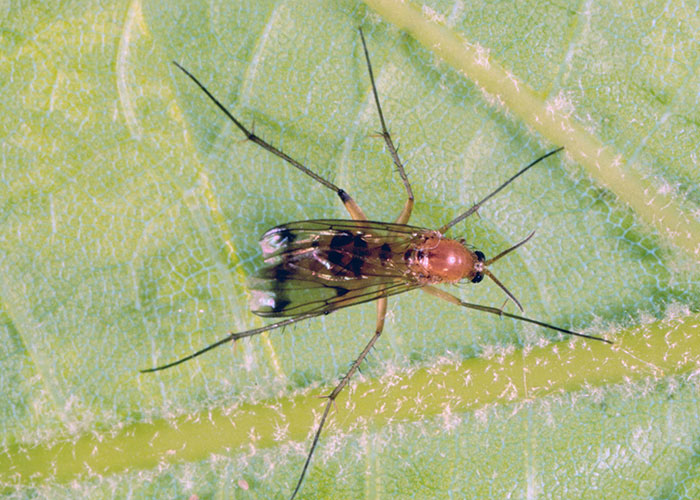Fruit fly: (151, 90, 577, 419)
